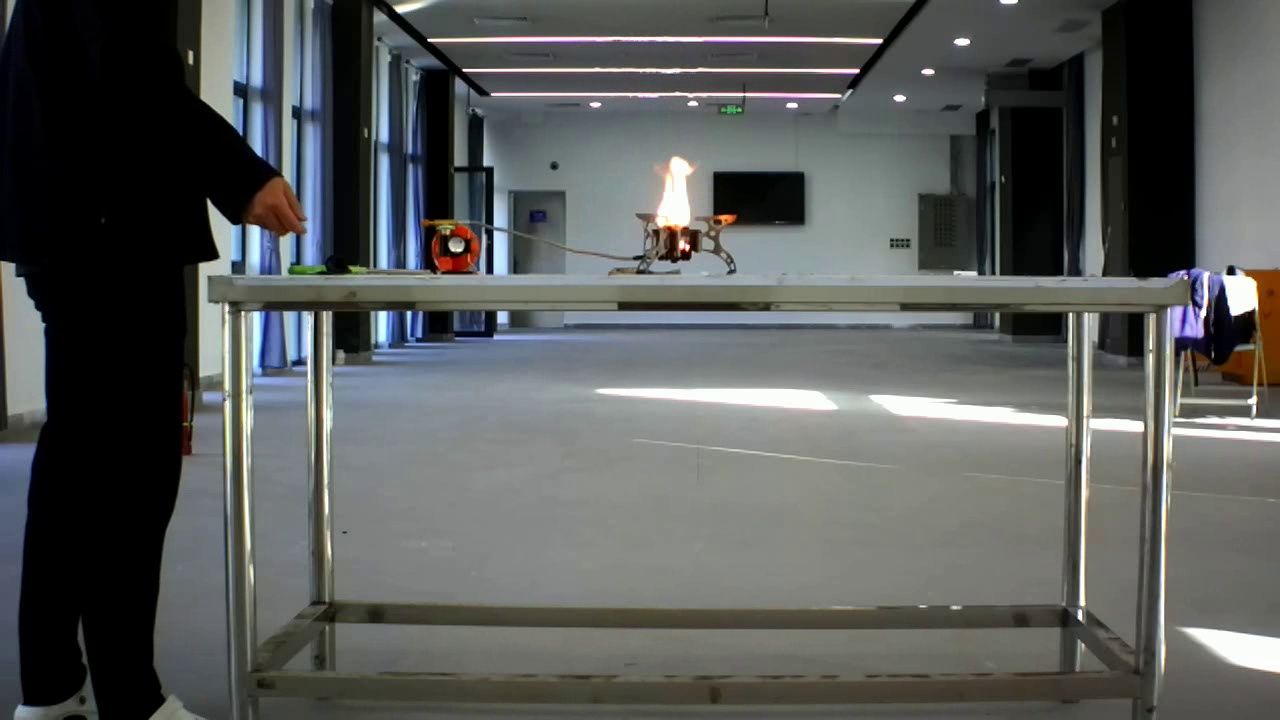Fire: (638, 142, 744, 266)
